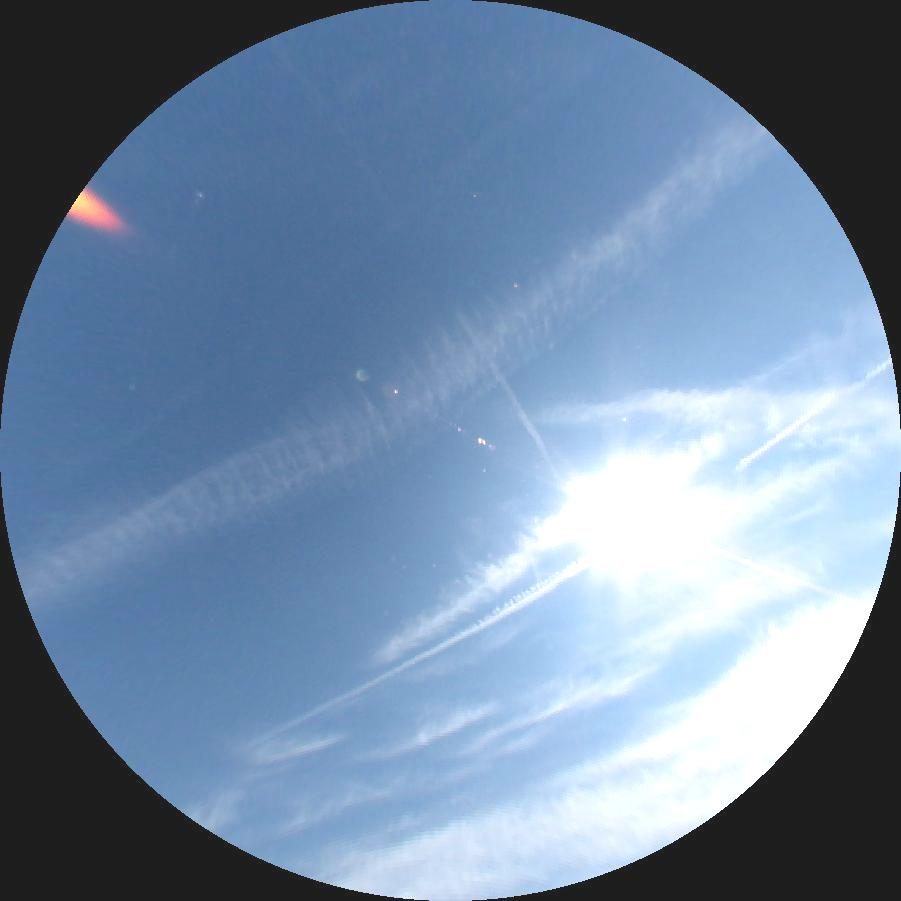contrail old: (456, 309, 565, 482)
contrail veryold: (5, 84, 807, 669), (112, 45, 618, 452), (359, 389, 766, 670), (526, 384, 900, 442)
parasite: (675, 532, 873, 612)
sun: (571, 480, 677, 556)
